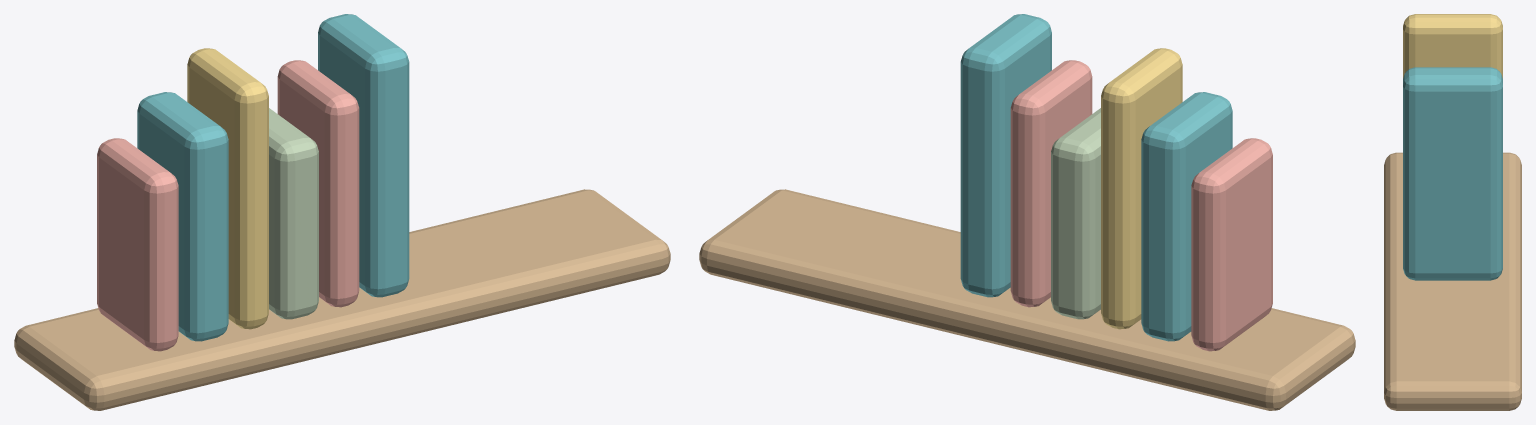
The model's file is WallShelf.fbx.
3 views of the same model, side by side, from view 1: azimuth 30°, elevation 25°; view 2: azimuth 150°, elevation 25°; view 3: azimuth 270°, elevation 25° (orthographic). The views are drawn at different scales.
Parts seen in each view (by area): view 1: WallShelf; view 2: WallShelf; view 3: WallShelf.
Part boxes in pixels (x1,y1,x2,y2): WallShelf: [14, 14, 670, 410]; WallShelf: [699, 14, 1355, 410]; WallShelf: [1384, 14, 1521, 410].
Size of the model in its own units: 0.9 by 0.41 by 0.22.
